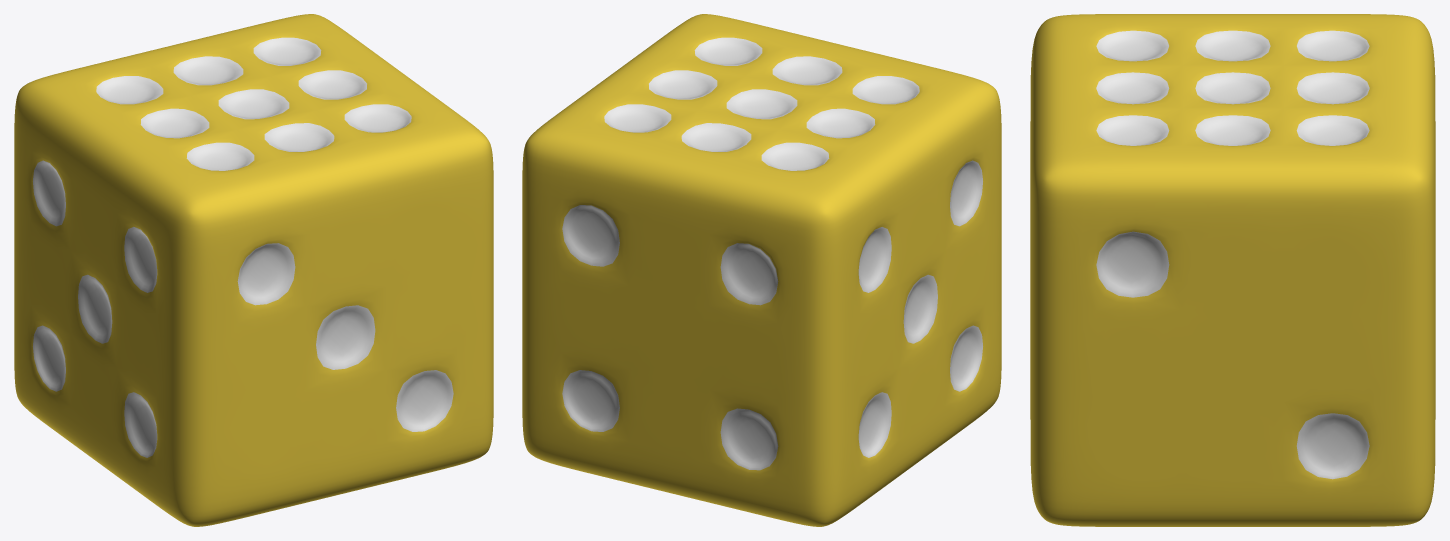
Rendered from dice.glb.
The picture shows the model from 3 angles, left to right: view 1: azimuth 30°, elevation 25°; view 2: azimuth 150°, elevation 25°; view 3: azimuth 270°, elevation 25°; orthographic projection. The views are drawn at different scales.
Visible parts, largest first — view 1: Cube; view 2: Cube; view 3: Cube.
Part boxes in pixels (<box>): Cube: <box>14,14,493,526</box>; Cube: <box>522,14,1001,526</box>; Cube: <box>1030,14,1435,526</box>.
Bounding box in the file's own units: 2 × 2 × 2.
